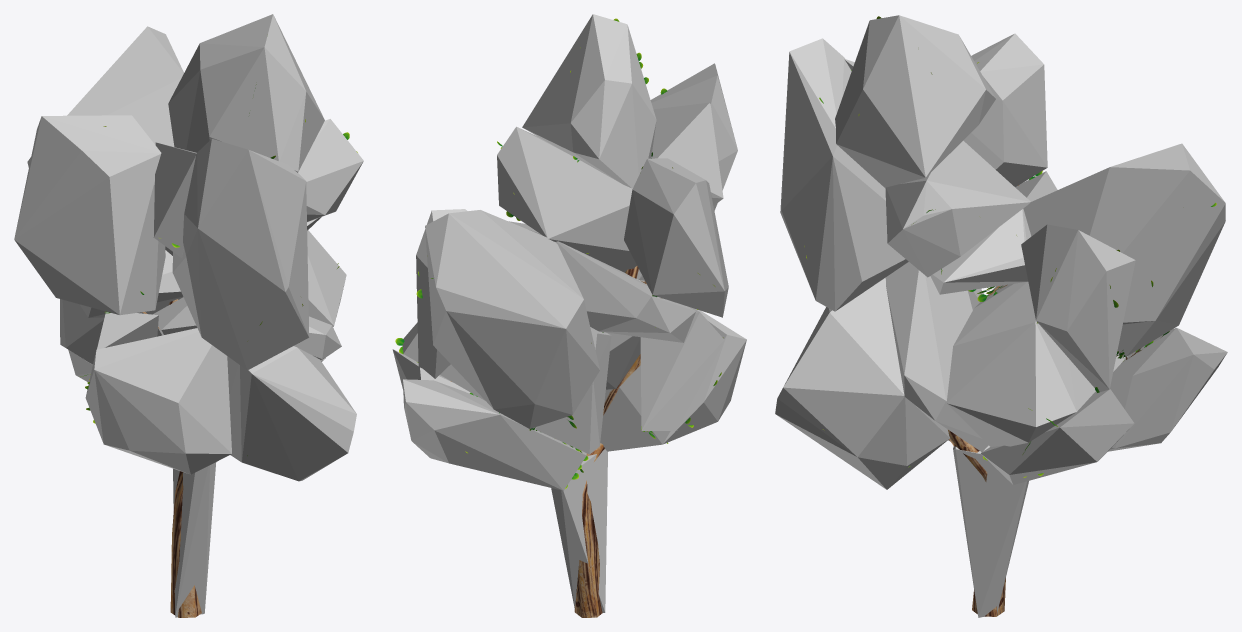
The model's file is SM_GreenTrees.fbx.
3 views of the same model, side by side, from view 1: azimuth 30°, elevation 25°; view 2: azimuth 150°, elevation 25°; view 3: azimuth 270°, elevation 25° (orthographic). The views are drawn at different scales.
Visible parts, largest first — view 1: SM_GreenTrees_ConvexHulls, SM_GreenTrees; view 2: SM_GreenTrees_ConvexHulls, SM_GreenTrees; view 3: SM_GreenTrees_ConvexHulls, SM_GreenTrees.
Part boxes in pixels (box(x1,y1,x2,y2)): SM_GreenTrees_ConvexHulls: box(14, 14, 363, 617); SM_GreenTrees: box(80, 84, 357, 617); SM_GreenTrees_ConvexHulls: box(392, 14, 746, 612); SM_GreenTrees: box(395, 18, 723, 617); SM_GreenTrees_ConvexHulls: box(775, 15, 1227, 617); SM_GreenTrees: box(804, 16, 1216, 616).
Size of the model in its own units: 282 by 320 by 481.
